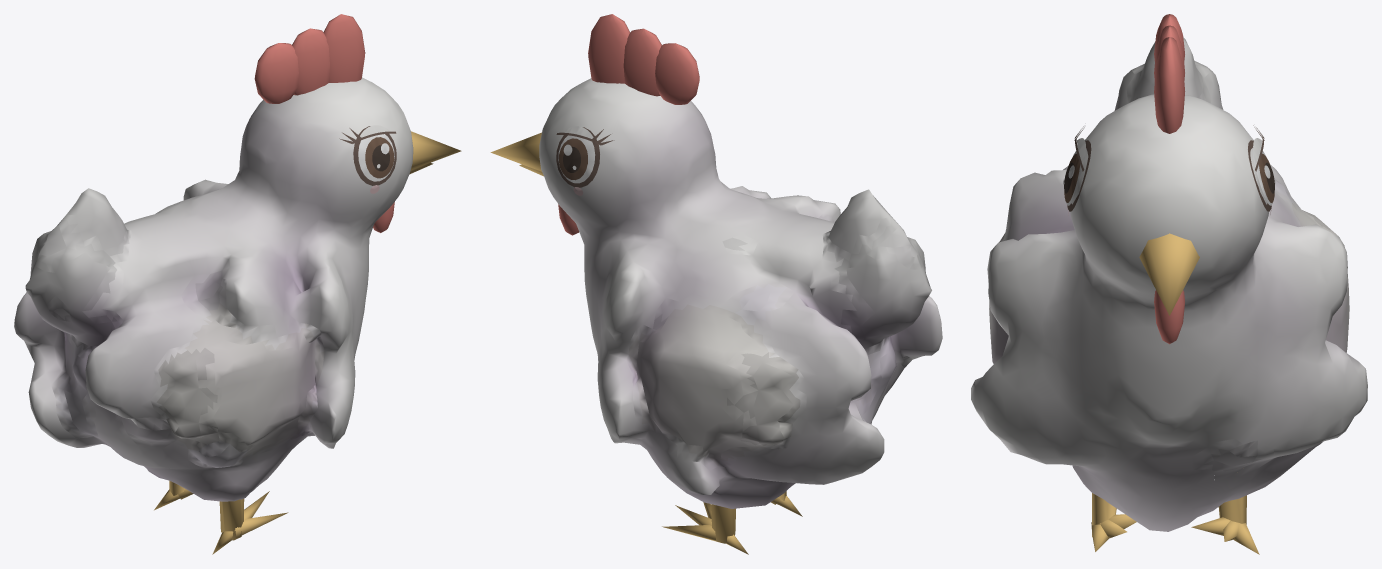
The model's file is silkie_chicken.glb.
3 views of the same model, side by side, from view 1: azimuth 30°, elevation 25°; view 2: azimuth 150°, elevation 25°; view 3: azimuth 270°, elevation 25° (orthographic). The views are drawn at different scales.
Parts seen in each view (by area): view 1: silkie_chicken; view 2: silkie_chicken; view 3: silkie_chicken.
Boxes of the visible parts, x1,y1,x2,y2 form: silkie_chicken: (14, 14, 461, 554); silkie_chicken: (490, 14, 942, 554); silkie_chicken: (971, 14, 1367, 554).
Size of the model in its own units: 0.5326 by 0.5599 by 0.3384.
